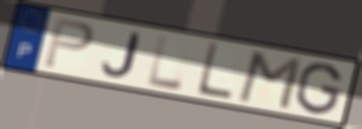G: (293, 62, 344, 116)
J: (100, 31, 141, 79)
L: (194, 41, 234, 102), (145, 33, 185, 93)
M: (235, 50, 305, 112)
P: (42, 16, 96, 71)
